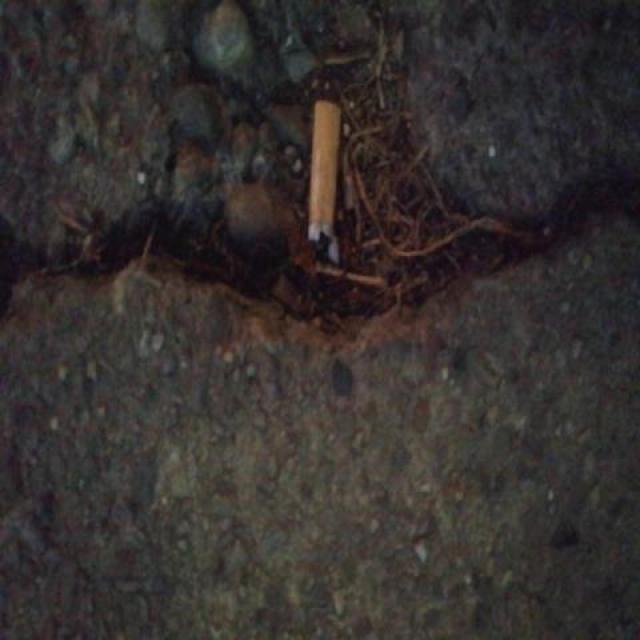non-organic waste: (303, 94, 345, 267)
